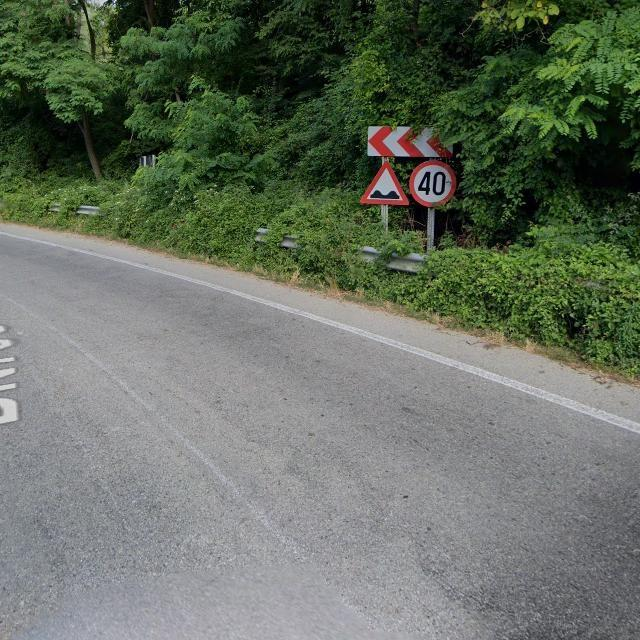forb_speed_over_40: (410, 161, 457, 209)
